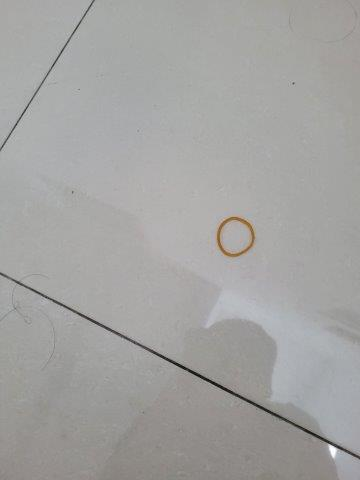karet: (216, 216, 256, 260)
